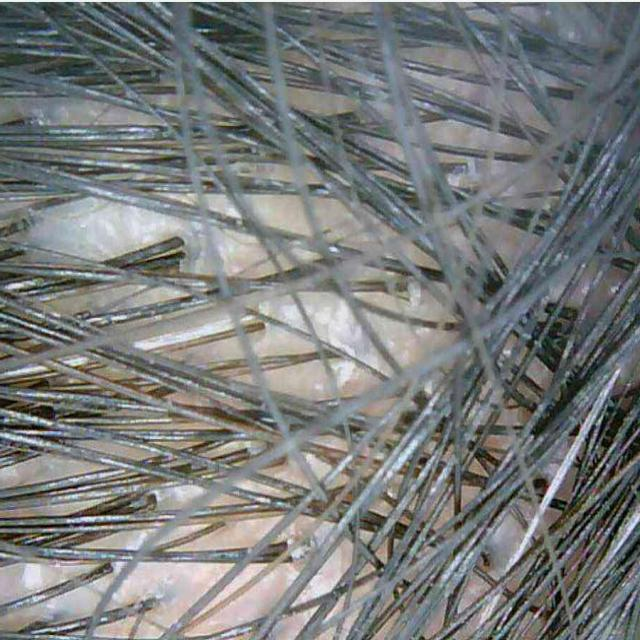d: (408, 278, 422, 308)
ds: (299, 293, 390, 373), (31, 198, 176, 247), (331, 360, 358, 389), (21, 565, 42, 590)
